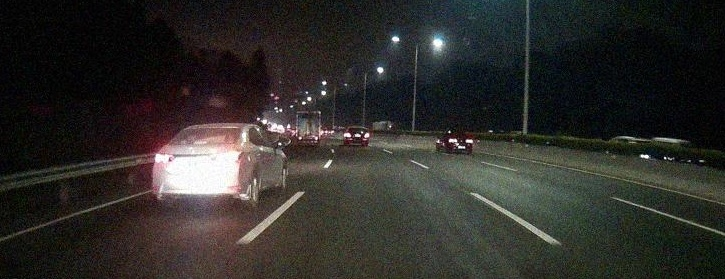L_light: (152, 153, 174, 164), (448, 138, 457, 143), (345, 133, 352, 138), (297, 137, 303, 140)
R_light: (216, 150, 247, 163), (464, 139, 473, 144), (363, 133, 369, 138), (313, 137, 319, 140)
T_light: (205, 127, 223, 133), (355, 127, 360, 130), (305, 113, 312, 115), (457, 133, 463, 135)
night-no: (151, 123, 251, 209), (295, 111, 320, 146), (446, 132, 473, 155), (344, 126, 369, 146)
